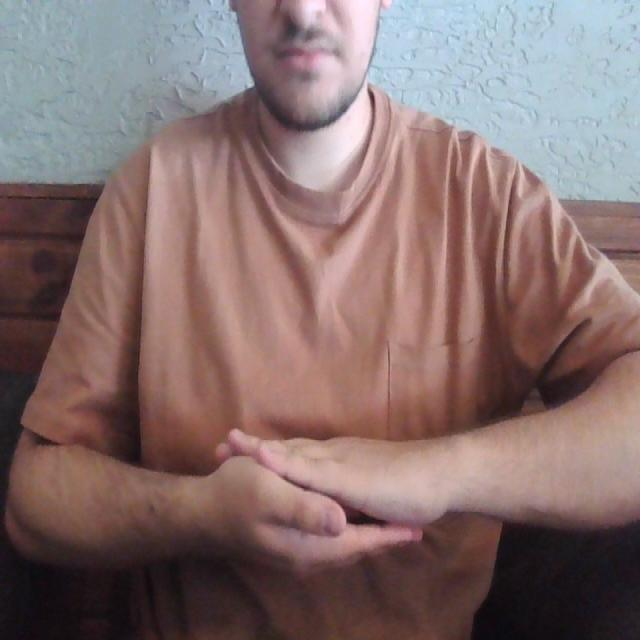Arkadas: (66, 421, 557, 578)
